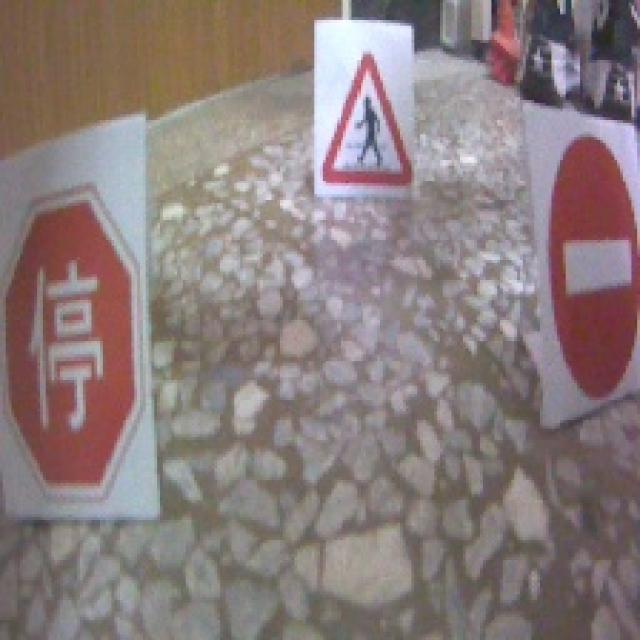DoNotEnterSign: (549, 133, 637, 402)
